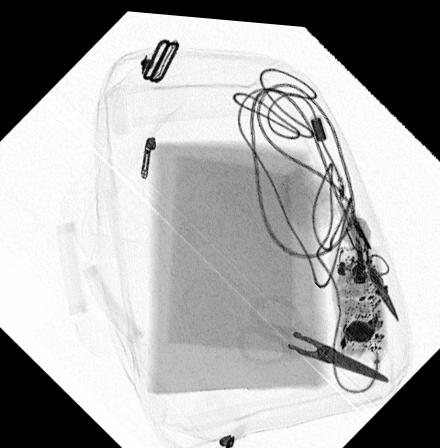Scissors: (235, 286, 390, 375), (347, 243, 400, 316)
